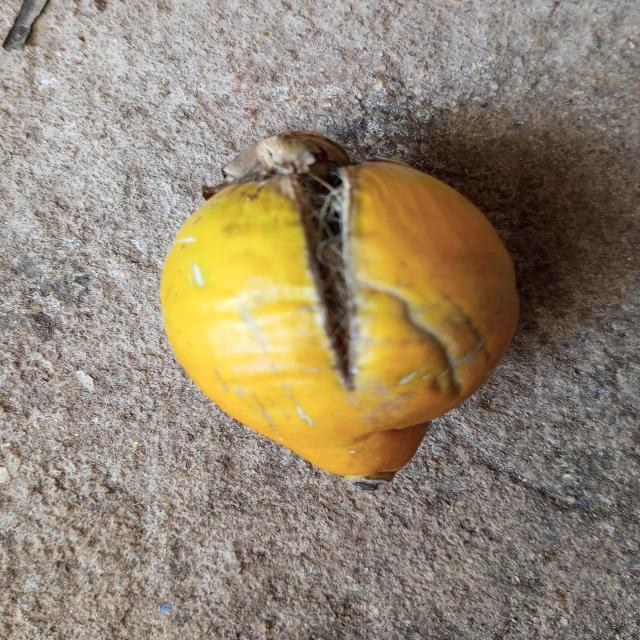damaged: (159, 134, 520, 482)
